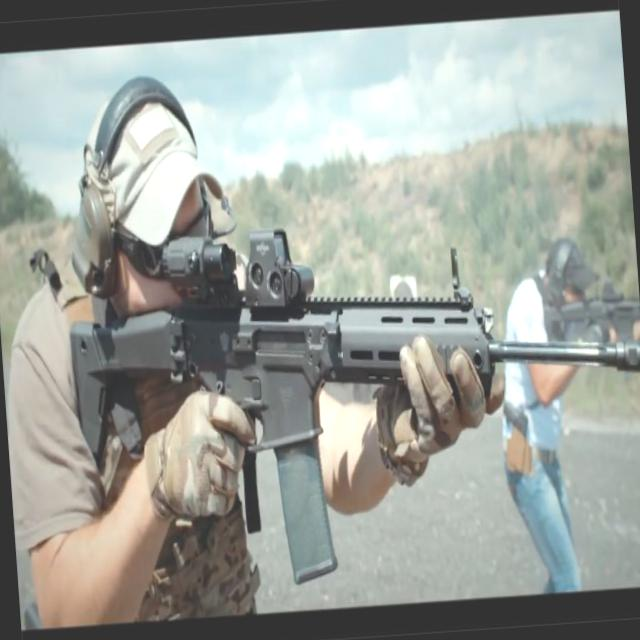long weapon: (162, 208, 638, 451)
